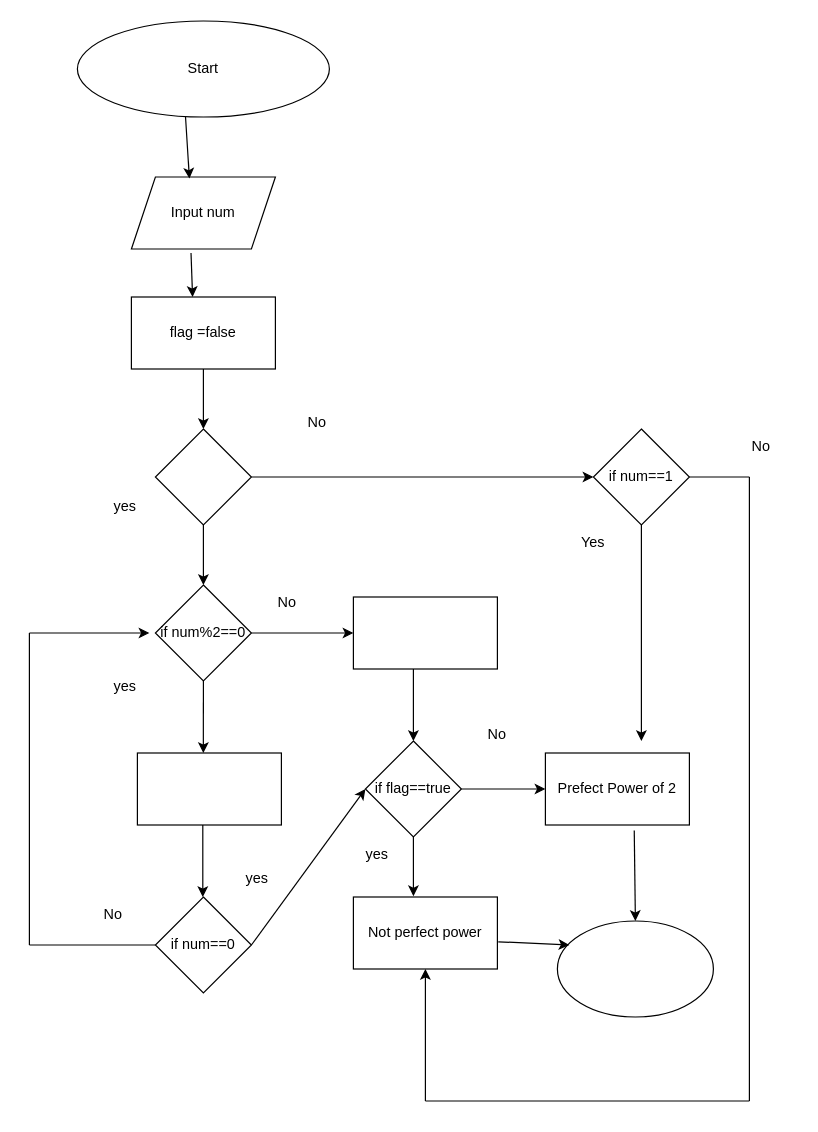
The diagram is 818 pixels wide and 1132 high, and some of its shapes have lost their labels. Here are the shapes that lost their labels. From the top down, the centre of each, then its label:
point 202,476: if num>1
point 424,632: flag=true
point 208,788: num=num/2
point 634,968: End
